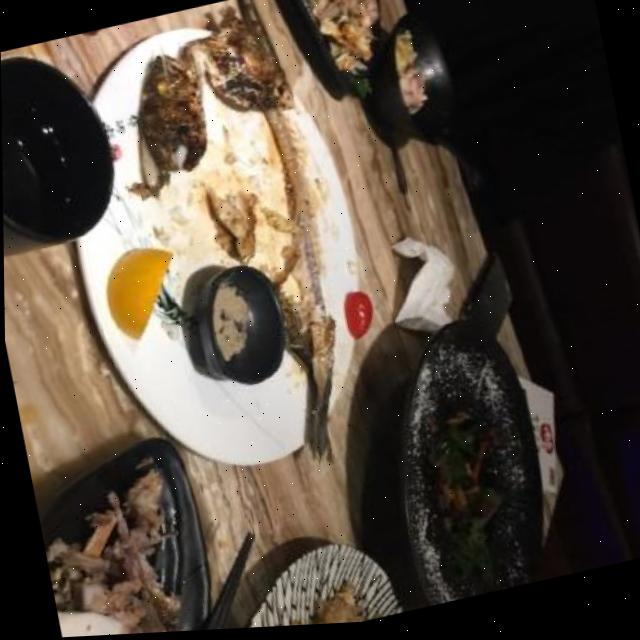Wet: (95, 239, 189, 347)
